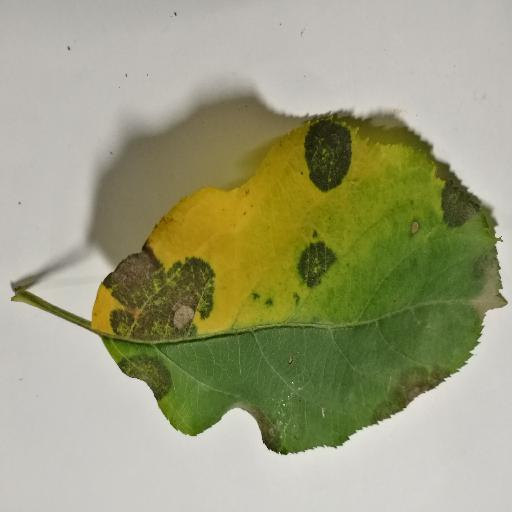Brown_Spot: (91, 244, 215, 341), (423, 151, 482, 237), (362, 371, 439, 435), (291, 108, 345, 189), (227, 404, 279, 455), (116, 354, 170, 403), (298, 241, 341, 287)
